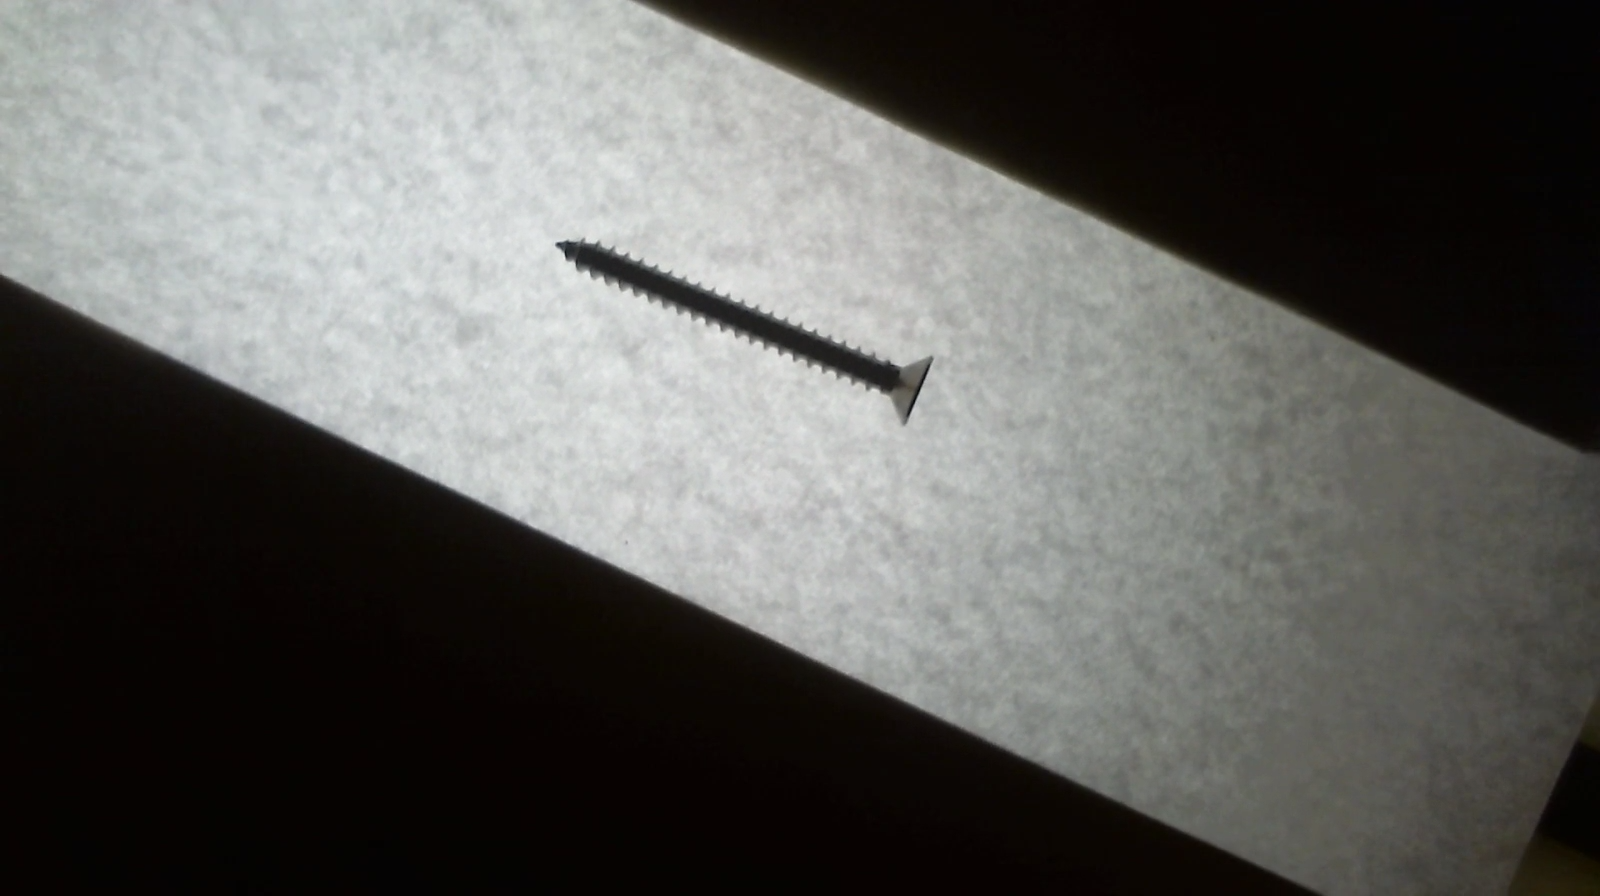S002: (549, 222, 942, 425)
